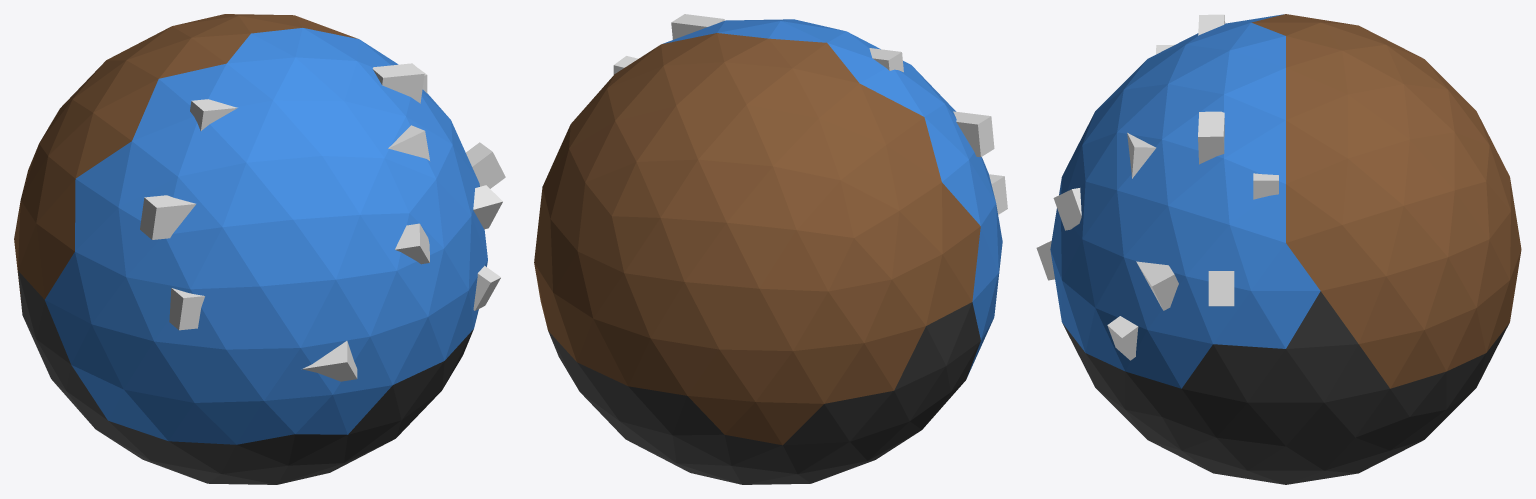
Rendered from planet 1x2o3x.fbx.
3 renders of one model, left to right at view 1: azimuth 30°, elevation 25°; view 2: azimuth 150°, elevation 25°; view 3: azimuth 270°, elevation 25°, orthographic.
Parts seen in each view (by area): view 1: Icosphere.004, Cube.025, Cube.026, Cube.024, Cube.028, Cube.030, Cube.029, Cube.022, Cube.027, Cube.031, Cube.023; view 2: Icosphere.004, Cube.025, Cube.026, Cube.027, Cube.028; view 3: Icosphere.004, Cube.026, Cube.022, Cube.030, Cube.023, Cube.029, Cube.031, Cube.032.
Boxes of the visible parts, left/top/right/bottom form: Icosphere.004: left=14, top=14, right=487, bottom=484; Cube.025: left=140, top=195, right=195, bottom=239; Cube.026: left=372, top=63, right=424, bottom=103; Cube.024: left=302, top=341, right=357, bottom=381; Cube.028: left=169, top=288, right=204, bottom=330; Cube.030: left=466, top=142, right=505, bottom=188; Cube.029: left=395, top=223, right=429, bottom=264; Cube.022: left=473, top=185, right=502, bottom=229; Cube.027: left=190, top=99, right=237, bottom=130; Cube.031: left=388, top=125, right=429, bottom=160; Cube.023: left=473, top=265, right=500, bottom=310; Icosphere.004: left=534, top=19, right=1002, bottom=484; Cube.025: left=953, top=111, right=994, bottom=157; Cube.026: left=671, top=14, right=724, bottom=39; Cube.027: left=869, top=48, right=903, bottom=72; Cube.028: left=989, top=174, right=1007, bottom=214; Icosphere.004: left=1050, top=14, right=1521, bottom=484; Cube.026: left=1198, top=111, right=1224, bottom=164; Cube.022: left=1136, top=261, right=1178, bottom=310; Cube.030: left=1208, top=271, right=1234, bottom=306; Cube.023: left=1107, top=316, right=1138, bottom=360; Cube.029: left=1053, top=188, right=1081, bottom=230; Cube.031: left=1127, top=132, right=1156, bottom=178; Cube.032: left=1253, top=173, right=1278, bottom=199.
Size of the model in its own units: 2045 by 2000 by 2059.
